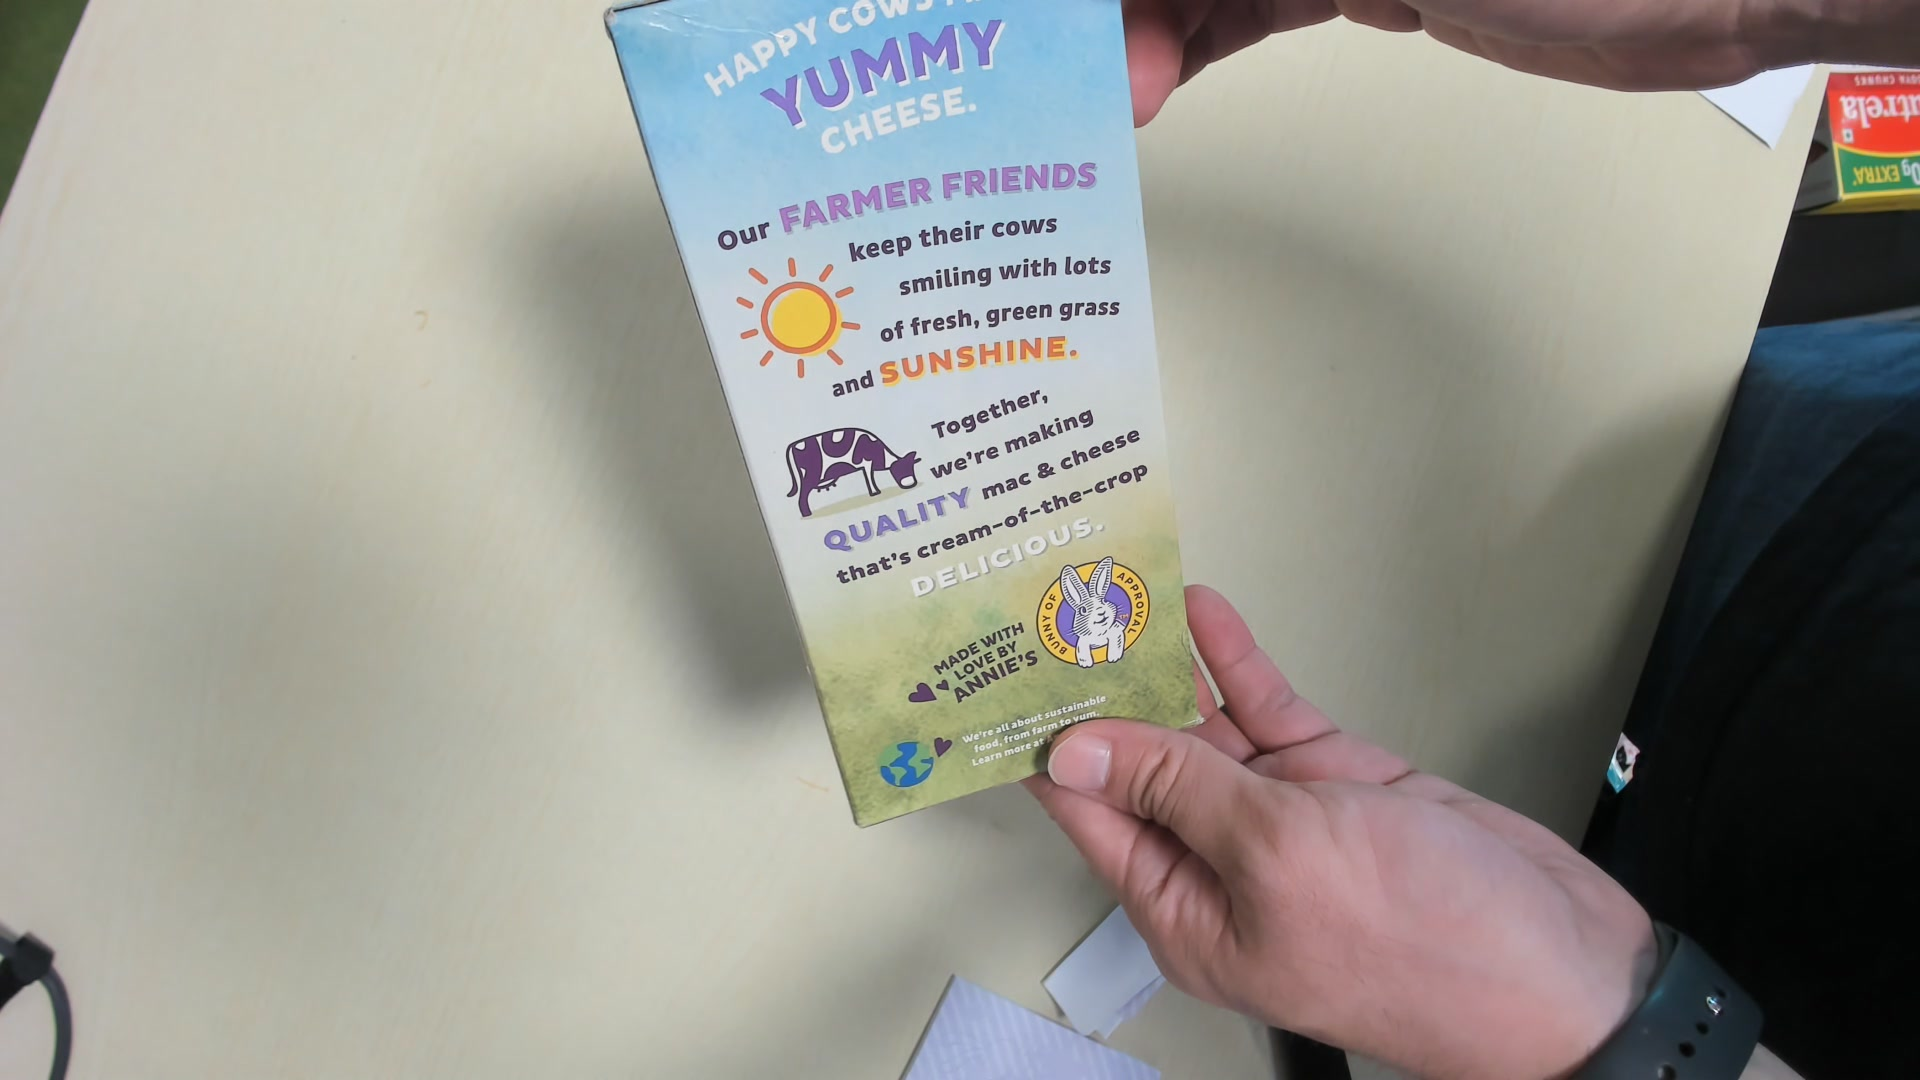InstantMeals_100_199g_NonHalal_NonHealthy: (603, 5, 1207, 829)
